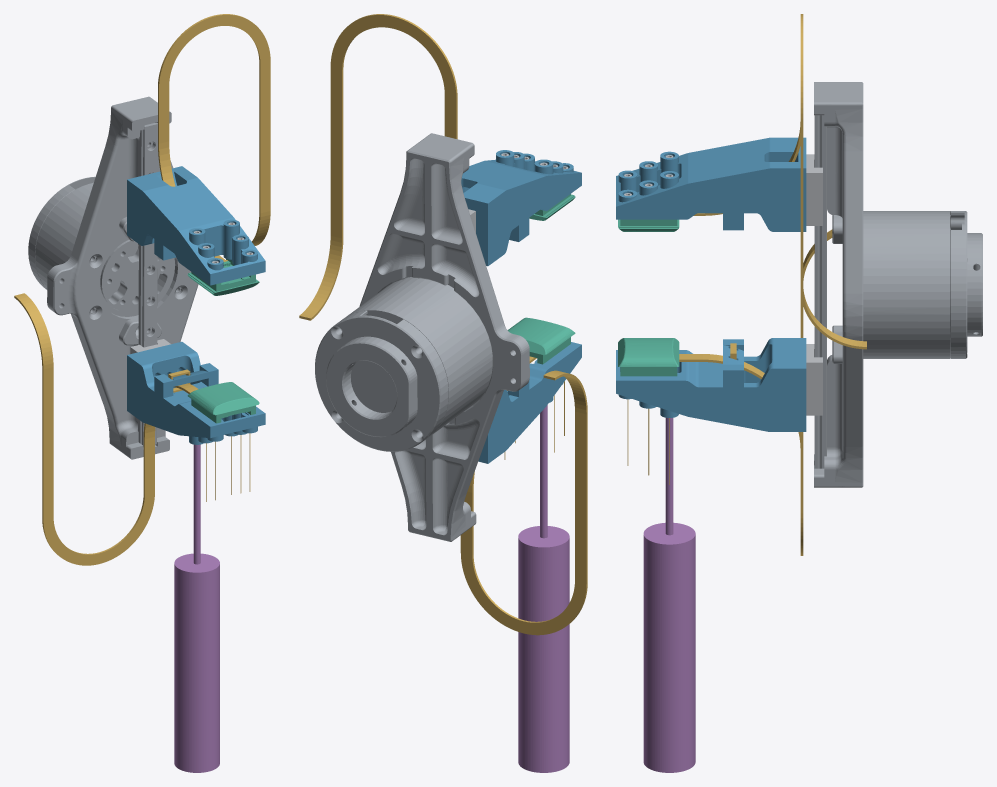
Rendered from sensor_screw_access.glb.
3 views of the same model, side by side, from view 1: azimuth 30°, elevation 25°; view 2: azimuth 150°, elevation 25°; view 3: azimuth 270°, elevation 25° (orthographic). The views are drawn at different scales.
Visible parts, largest first — view 1: original_actuator_and_transmission, S3_driver_reference_with_assumed_handle, replacement_finger_2, replacement_finger_1, service_loop_envelope_1, service_loop_envelope_2, M2324_1, M2324_2, moving_harness_envelope_2; view 2: original_actuator_and_transmission, S3_driver_reference_with_assumed_handle, replacement_finger_2, service_loop_envelope_2, service_loop_envelope_1, replacement_finger_1, M2324_1; view 3: original_actuator_and_transmission, S3_driver_reference_with_assumed_handle, replacement_finger_2, replacement_finger_1, M2324_1, service_loop_envelope_2, retained_carrier_1, retained_carrier_2, service_loop_envelope_1, M2324_2.
Part boxes in pixels (x1,y1,x2,y2): original_actuator_and_transmission: (28,96,198,459); S3_driver_reference_with_assumed_handle: (174,444,219,772); replacement_finger_2: (127,166,265,285); replacement_finger_1: (127,341,265,444); service_loop_envelope_1: (14,293,154,565); service_loop_envelope_2: (158,14,270,245); M2324_1: (187,382,259,423); M2324_2: (187,259,259,295); moving_harness_envelope_2: (158,141,224,260); original_actuator_and_transmission: (315,133,529,541); S3_driver_reference_with_assumed_handle: (518,405,569,772); replacement_finger_2: (461,150,581,266); service_loop_envelope_2: (299,14,457,320); service_loop_envelope_1: (460,370,587,635); replacement_finger_1: (478,342,581,463); M2324_1: (507,317,575,364); original_actuator_and_transmission: (814,82,982,487); S3_driver_reference_with_assumed_handle: (643,418,695,772); replacement_finger_2: (616,137,806,231); replacement_finger_1: (616,338,806,431); M2324_1: (618,338,679,376); service_loop_envelope_2: (800,14,866,349); retained_carrier_1: (806,344,822,415); retained_carrier_2: (806,154,822,225); service_loop_envelope_1: (800,229,832,555); M2324_2: (618,219,679,231).
Size of the model in its own units: 0.1152 by 0.3325 by 0.1412.
